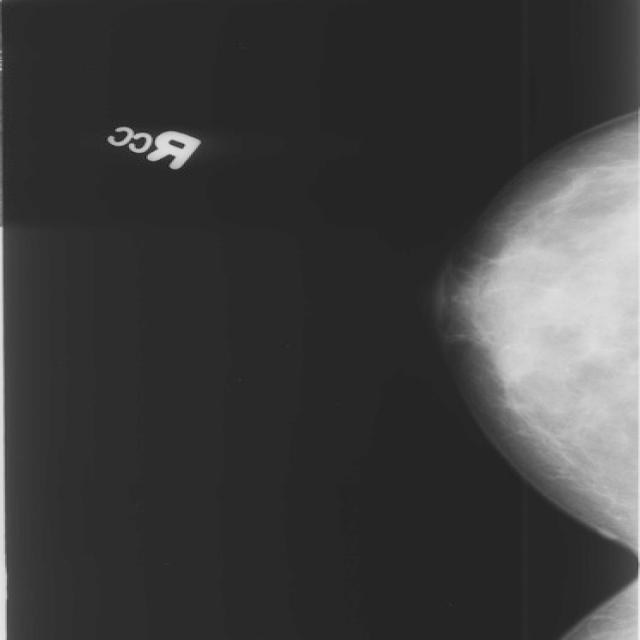tumour: (492, 342, 535, 382)
